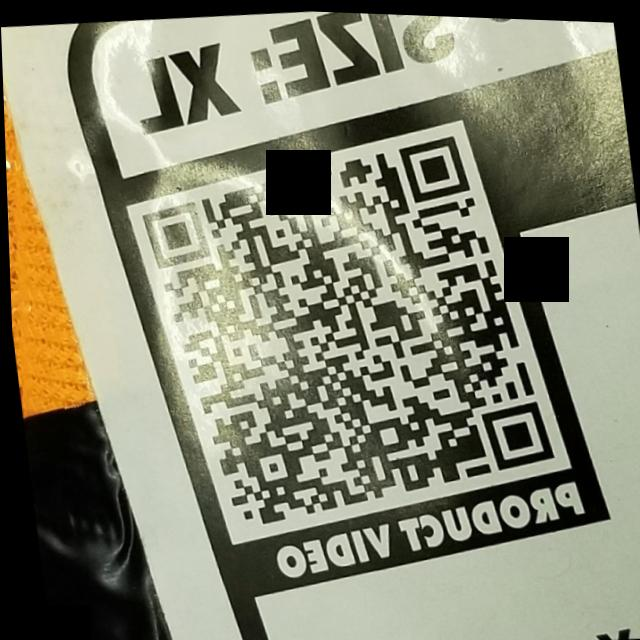QR_CODE: (108, 99, 569, 552)
